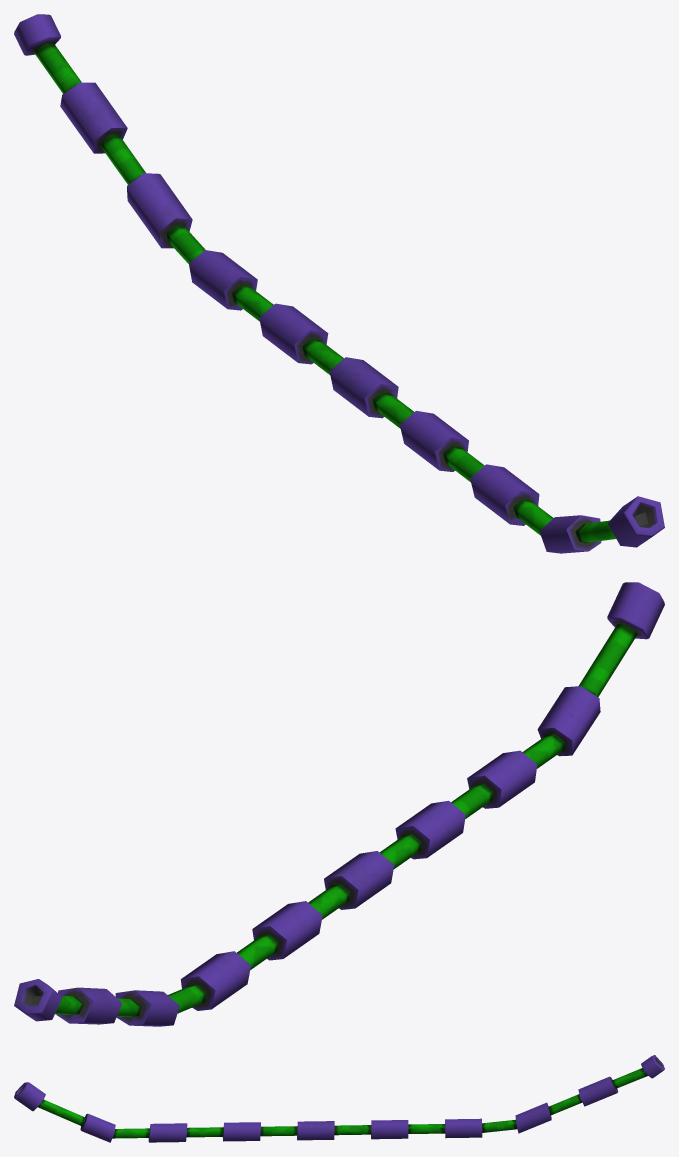
The picture shows the model from 3 angles, top to bottom: view 1: azimuth 30°, elevation 25°; view 2: azimuth 150°, elevation 25°; view 3: azimuth 270°, elevation 25°; orthographic projection. The views are drawn at different scales.
Visible parts, largest first — view 1: SM_Tube_01; view 2: SM_Tube_01; view 3: SM_Tube_01.
Boxes of the visible parts, bbox=[...] form: SM_Tube_01: bbox=[14, 14, 664, 553]; SM_Tube_01: bbox=[14, 582, 664, 1026]; SM_Tube_01: bbox=[14, 1055, 664, 1142].
Bounding box in the file's own units: 8.61 × 223 × 31.92.
1 material, 1 textured.
